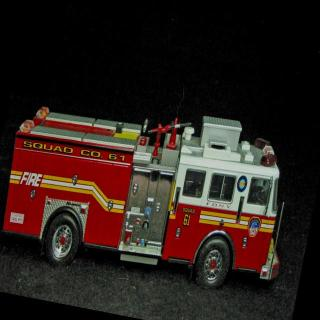Fire_truck: (0, 79, 305, 307)
